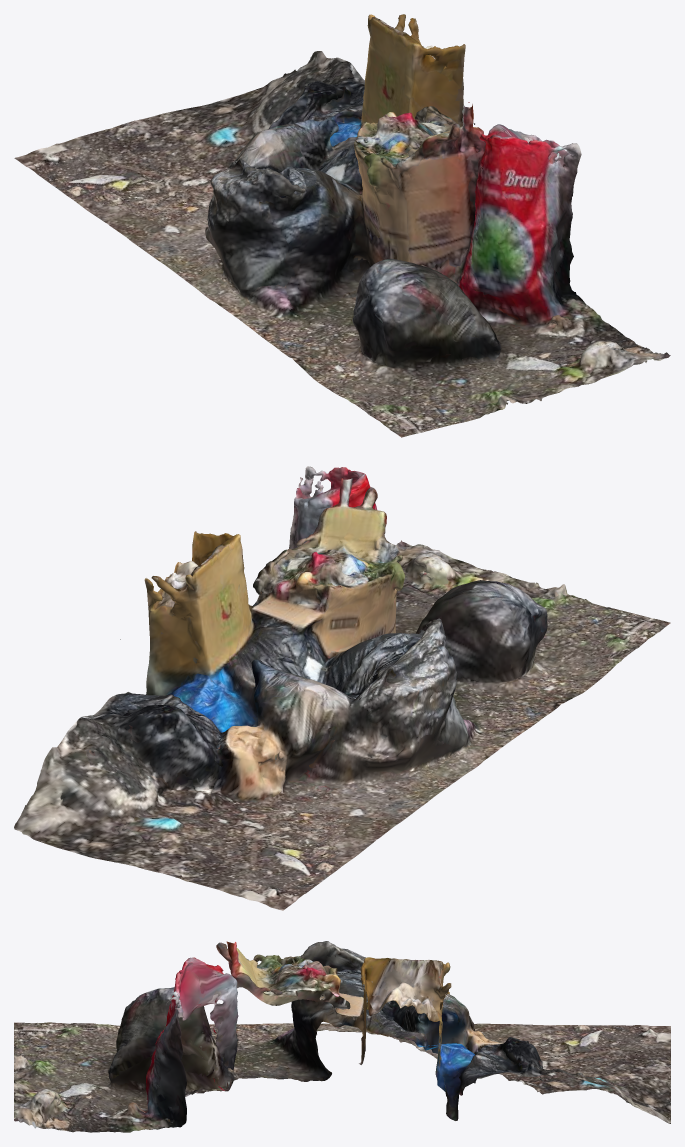
Rendered from trash_pile.glb.
3 renders of one model, top to bottom at view 1: azimuth 30°, elevation 25°; view 2: azimuth 150°, elevation 25°; view 3: azimuth 270°, elevation 25°, orthographic. The views are drawn at different scales.
Visible parts, largest first — view 1: Mesh_0.004; view 2: Mesh_0.004; view 3: Mesh_0.004.
Part boxes in pixels (x1,y1,x2,y2): Mesh_0.004: (14,14,670,437); Mesh_0.004: (14,466,670,910); Mesh_0.004: (14,941,670,1132).
Size of the model in its own units: 1.24 by 0.8732 by 3.09.
1 material, 1 textured.
